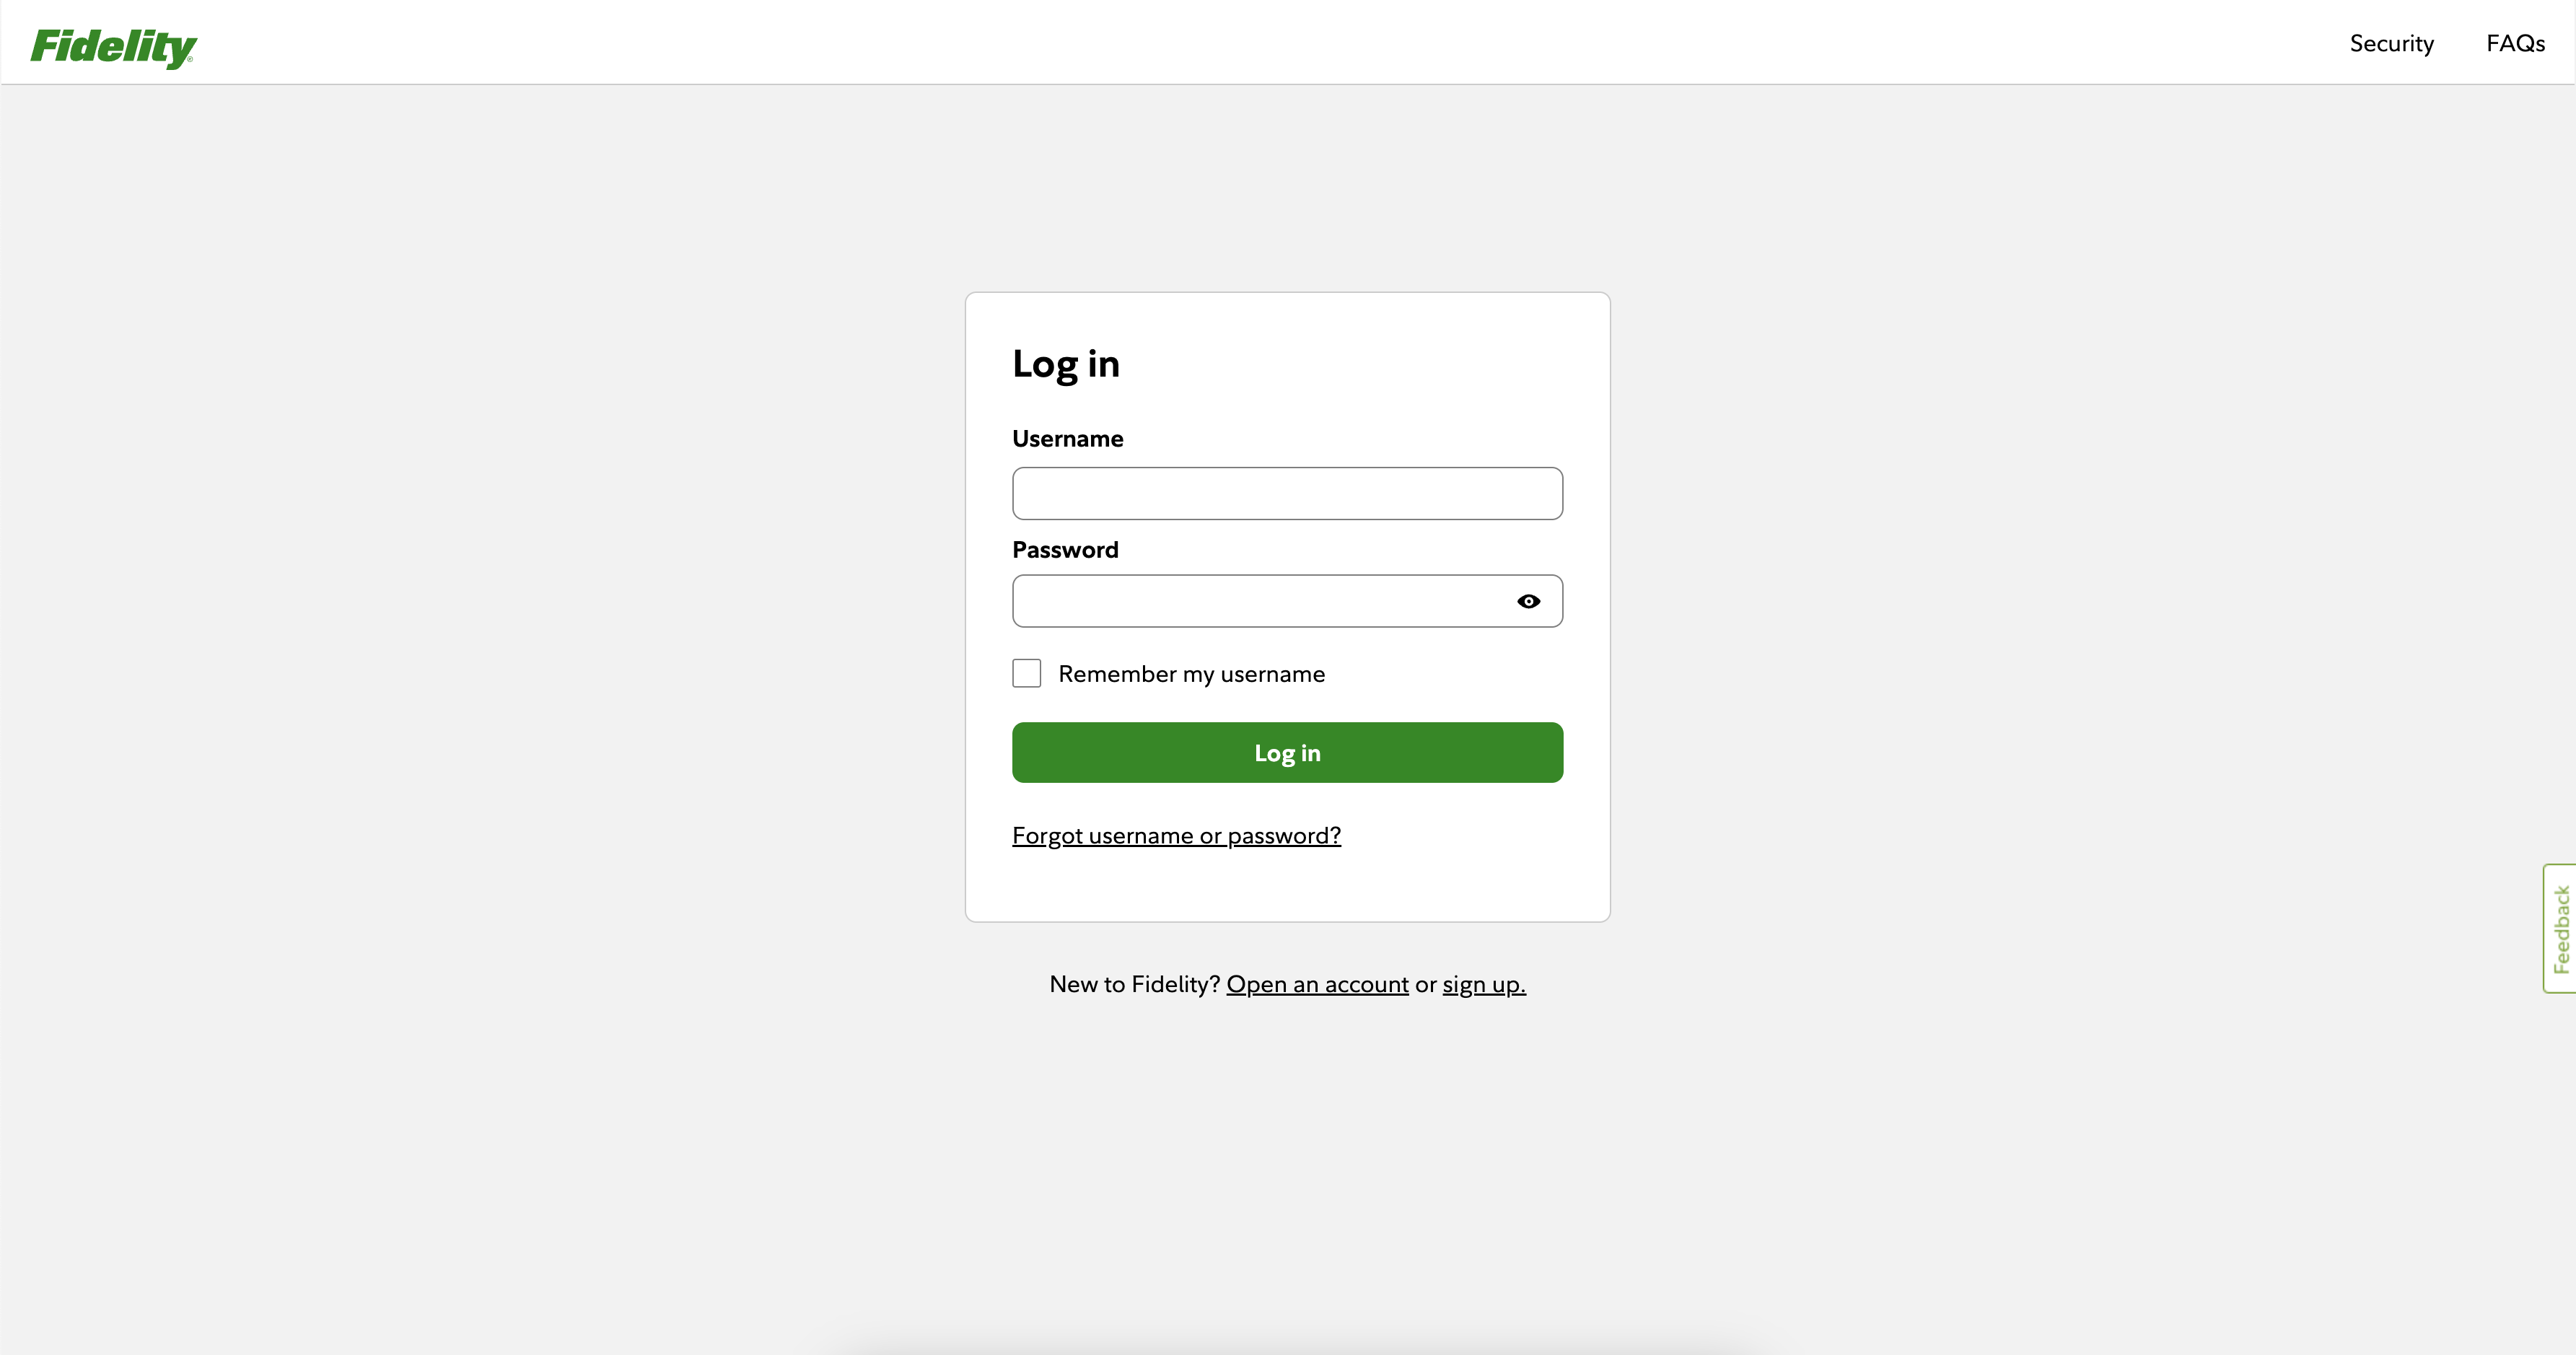button: (1012, 723, 1564, 782)
input: (1012, 571, 1564, 629), (1012, 465, 1564, 522)
label: (1012, 428, 1128, 453), (1014, 542, 1123, 561)
